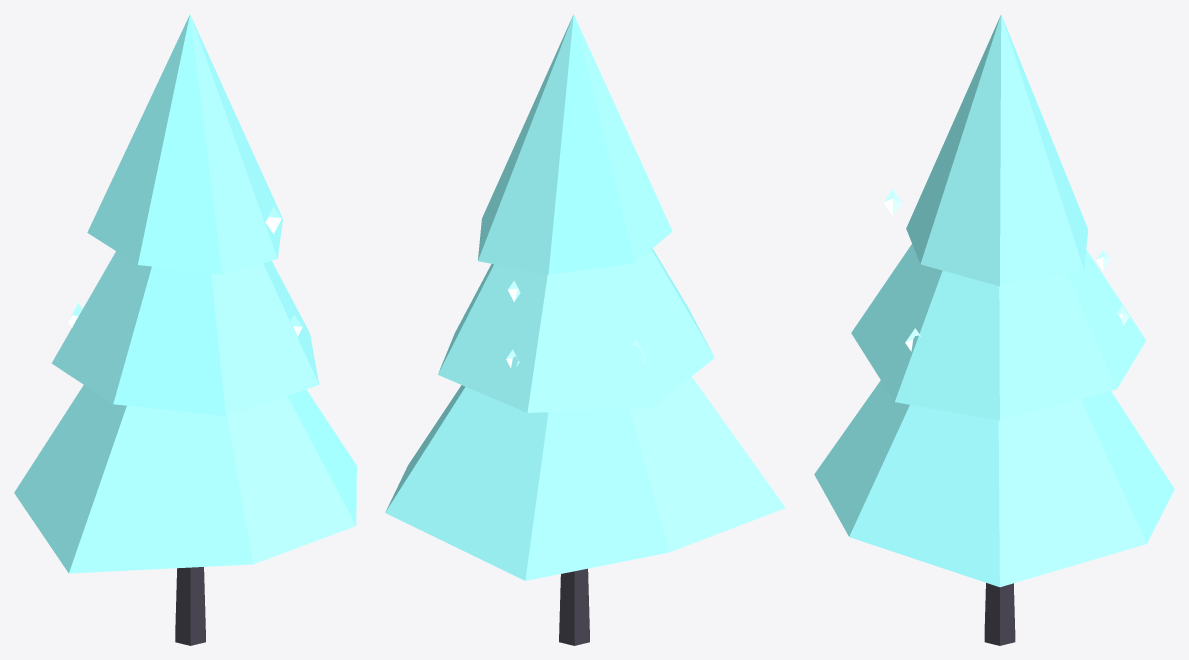
Rendered from teal_conifer_near.glb.
3 renders of one model, left to right at view 1: azimuth 30°, elevation 25°; view 2: azimuth 150°, elevation 25°; view 3: azimuth 270°, elevation 25°, orthographic.
Visible parts, largest first — view 1: teal_conifer_near; view 2: teal_conifer_near; view 3: teal_conifer_near.
Boxes of the visible parts, bbox=[...] form: teal_conifer_near: bbox=[14, 14, 356, 645]; teal_conifer_near: bbox=[385, 14, 785, 645]; teal_conifer_near: bbox=[814, 14, 1174, 645].
Size of the model in its own units: 1.73 by 3.1 by 1.62.
